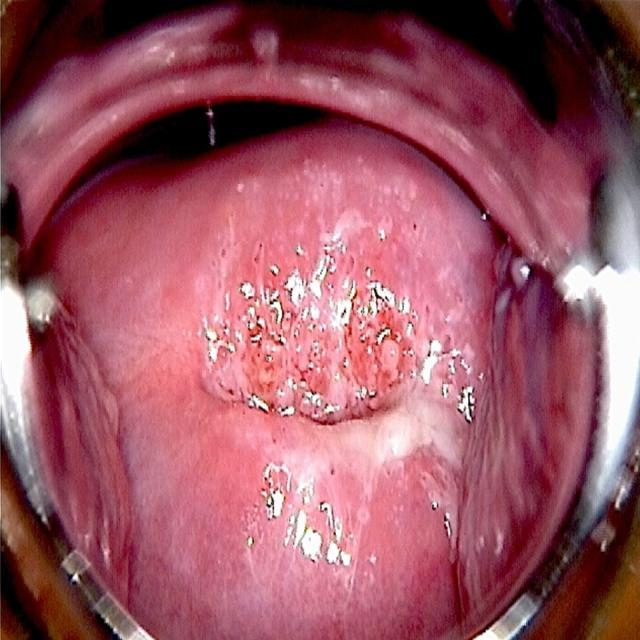cervical_lesion: (199, 199, 495, 597)
